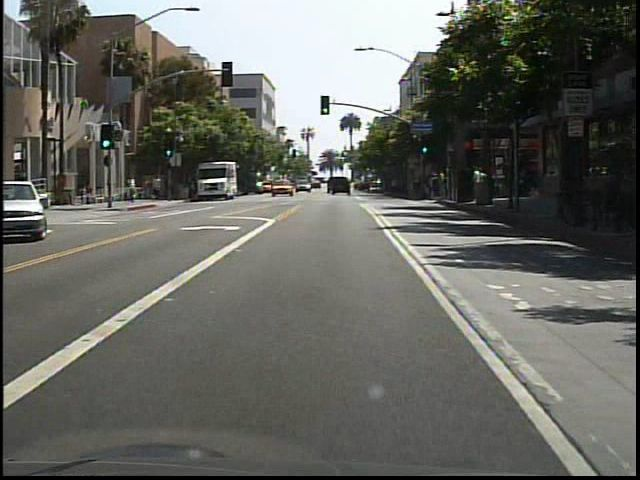person: (127, 172, 140, 205), (152, 173, 166, 202), (83, 183, 99, 208), (144, 177, 156, 200)
